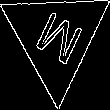M_SW: (28, 5, 84, 71)
